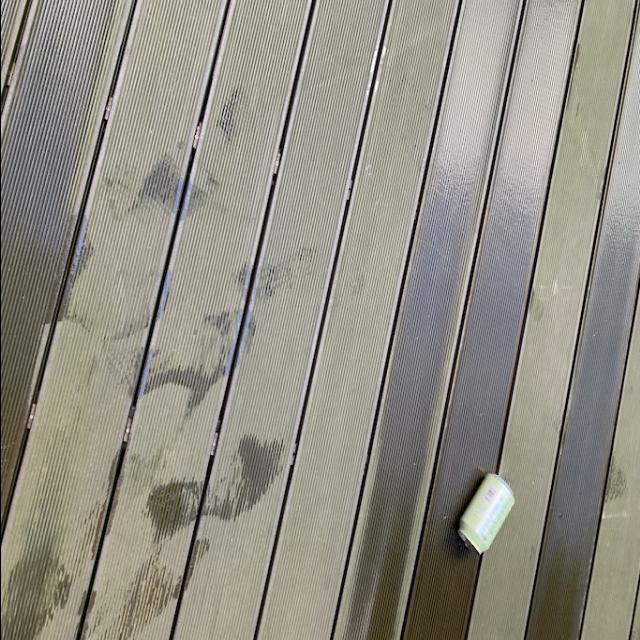litter: (454, 476, 514, 562)
